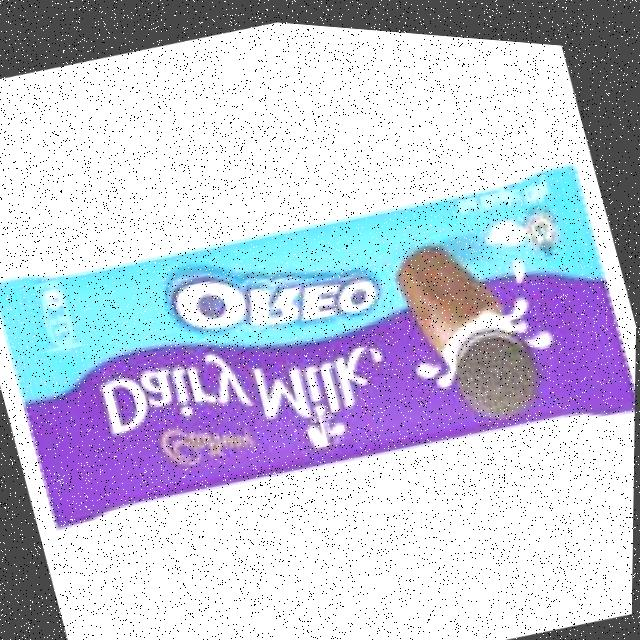cadbury: (0, 111, 639, 565)
